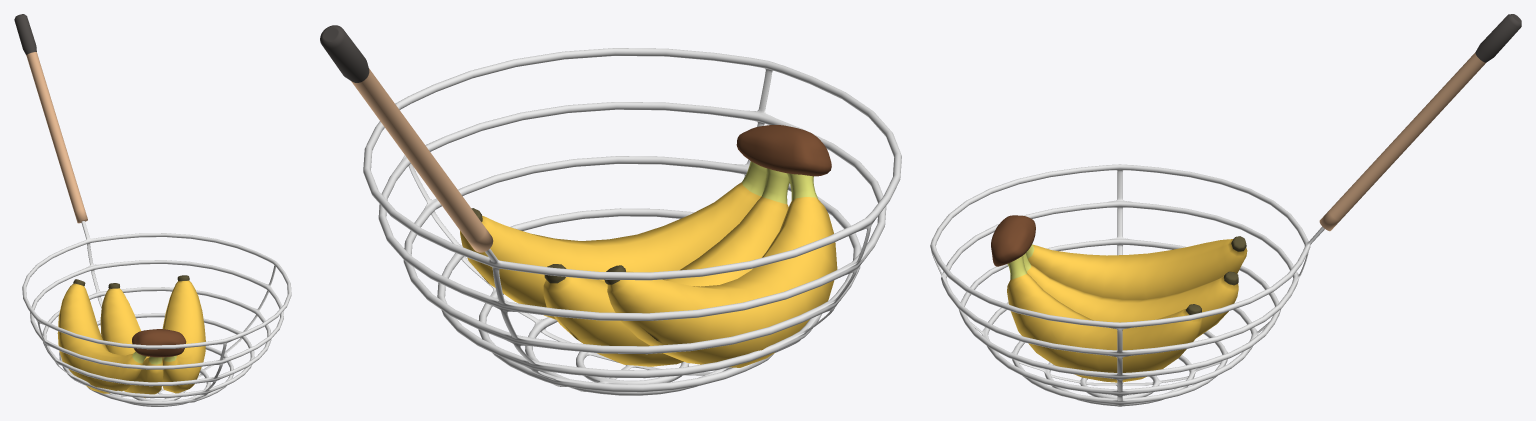
File: Strainer_SpiderBanana.glb
3 views of the same model, side by side, from view 1: azimuth 30°, elevation 25°; view 2: azimuth 150°, elevation 25°; view 3: azimuth 270°, elevation 25° (orthographic). The views are drawn at different scales.
Parts seen in each view (by area): view 1: Sphere.003, banana_lo.002, banana_lo.001, banana_lo, Cylinder, Cube; view 2: Sphere.003, banana_lo.002, banana_lo.001, banana_lo, Cylinder, Cube; view 3: Sphere.003, banana_lo.001, banana_lo.002, banana_lo, Cylinder, Cube.
Boxes of the visible parts, bbox=[...] form: Sphere.003: bbox=[22, 221, 291, 406]; banana_lo.002: bbox=[57, 279, 146, 393]; banana_lo.001: bbox=[162, 275, 205, 393]; banana_lo: bbox=[100, 283, 163, 398]; Cylinder: bbox=[14, 14, 87, 223]; Cube: bbox=[132, 329, 186, 357]; Sphere.003: bbox=[363, 48, 901, 395]; banana_lo.002: bbox=[604, 173, 837, 367]; banana_lo.001: bbox=[460, 161, 766, 319]; banana_lo: bbox=[543, 168, 789, 366]; Cylinder: bbox=[320, 25, 493, 252]; Cube: bbox=[736, 125, 831, 176]; Sphere.003: bbox=[930, 164, 1324, 406]; banana_lo.001: bbox=[1007, 255, 1202, 382]; banana_lo.002: bbox=[1026, 236, 1247, 299]; banana_lo: bbox=[1023, 253, 1238, 338]; Cylinder: bbox=[1319, 14, 1521, 231]; Cube: bbox=[991, 215, 1035, 266].
Size of the model in its own units: 1.98 by 2.16 by 3.08.
4 materials, 1 textured.
